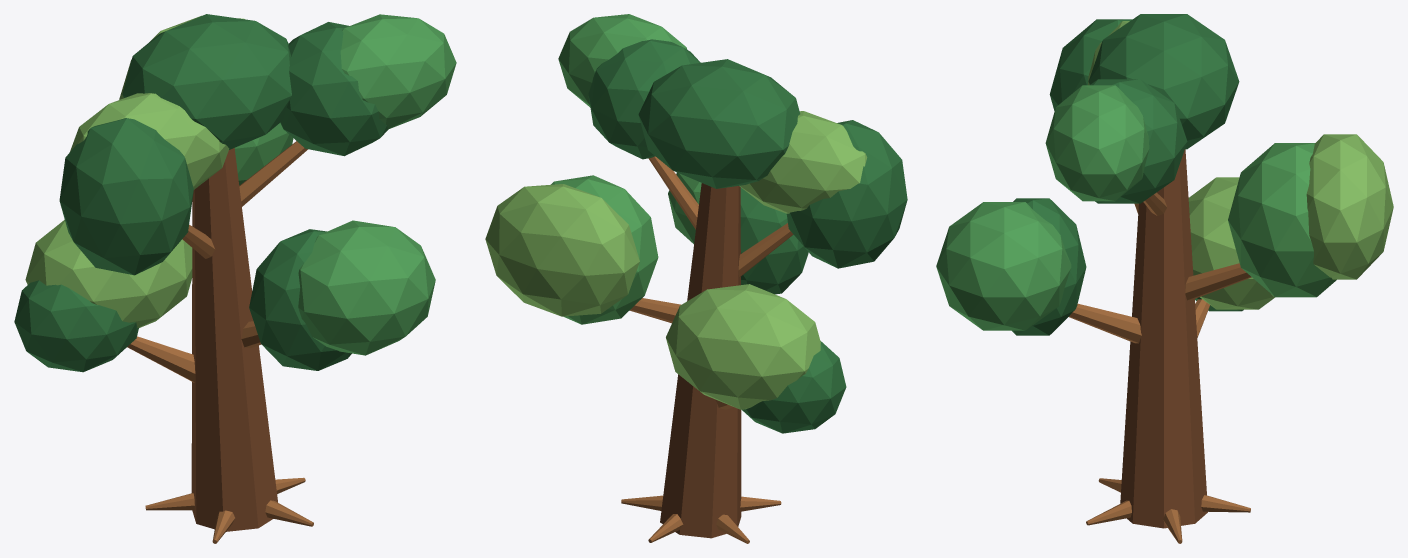
File: tree_c.glb
3 renders of one model, left to right at view 1: azimuth 30°, elevation 25°; view 2: azimuth 150°, elevation 25°; view 3: azimuth 270°, elevation 25°, orthographic. The views are drawn at different scales.
Parts seen in each view (by area): view 1: TREE_C; view 2: TREE_C; view 3: TREE_C.
Part boxes in pixels (box(x1,y1,x2,y2)): TREE_C: box(14, 14, 456, 543); TREE_C: box(485, 14, 907, 543); TREE_C: box(936, 14, 1393, 543).
Bounding box in the file's own units: 4.47 × 5.78 × 4.97.
